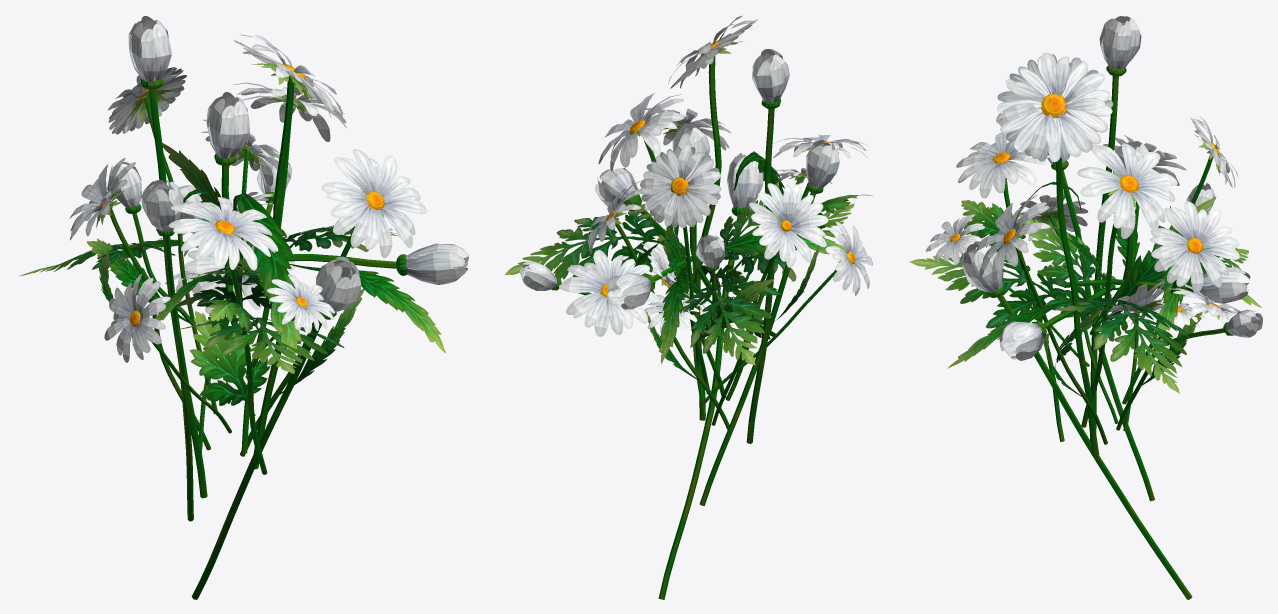
Rendered from P_Flowerchuju_04.obj.
3 views of the same model, side by side, from view 1: azimuth 30°, elevation 25°; view 2: azimuth 150°, elevation 25°; view 3: azimuth 270°, elevation 25° (orthographic). The views are drawn at different scales.
Size of the model in its own units: 0.3788 by 0.6474 by 0.3852.
1 material, 1 textured.
